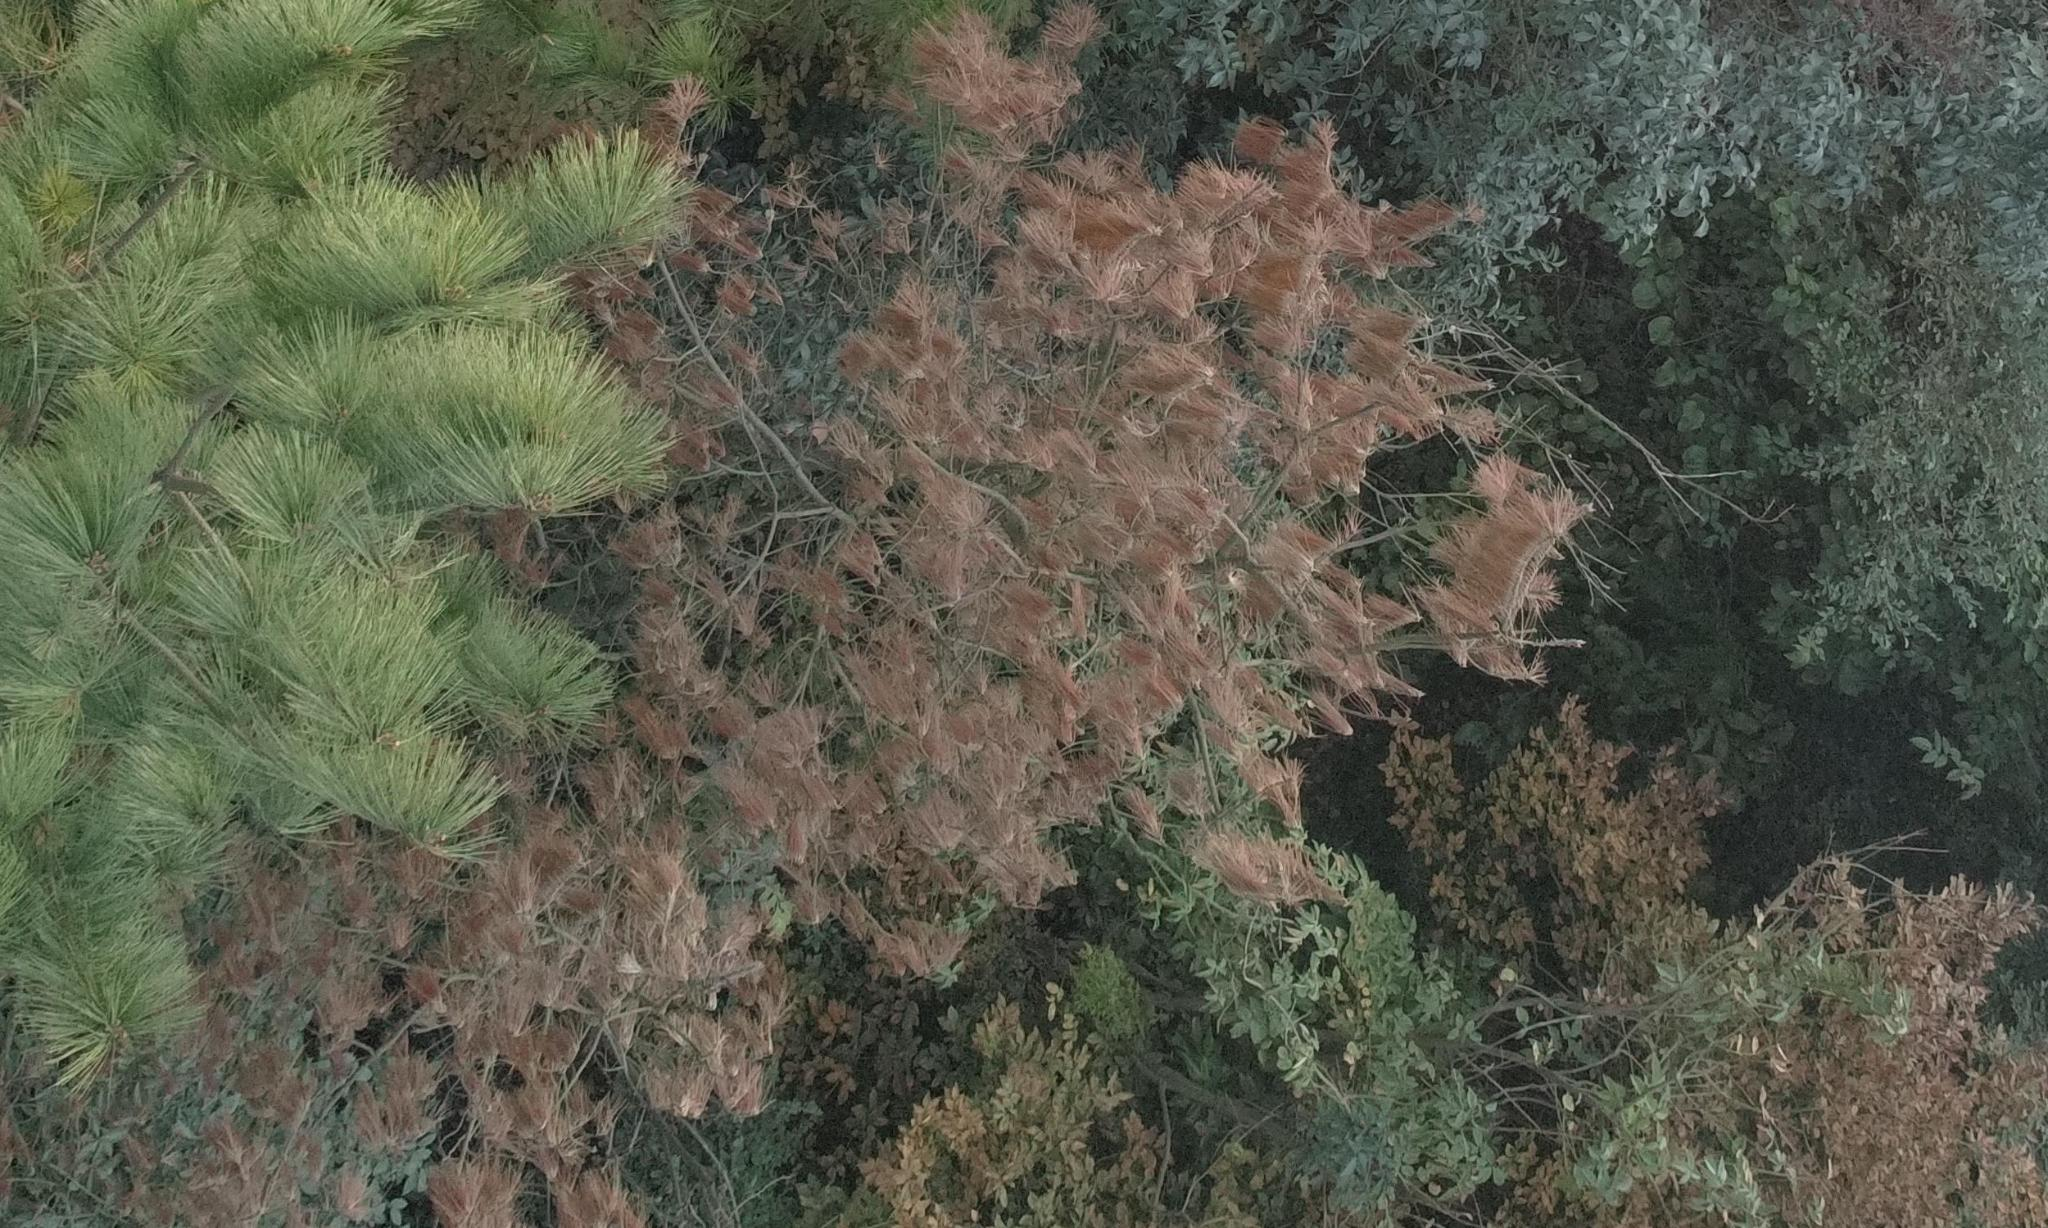heavy: (706, 18, 1558, 917), (167, 829, 671, 1206)
